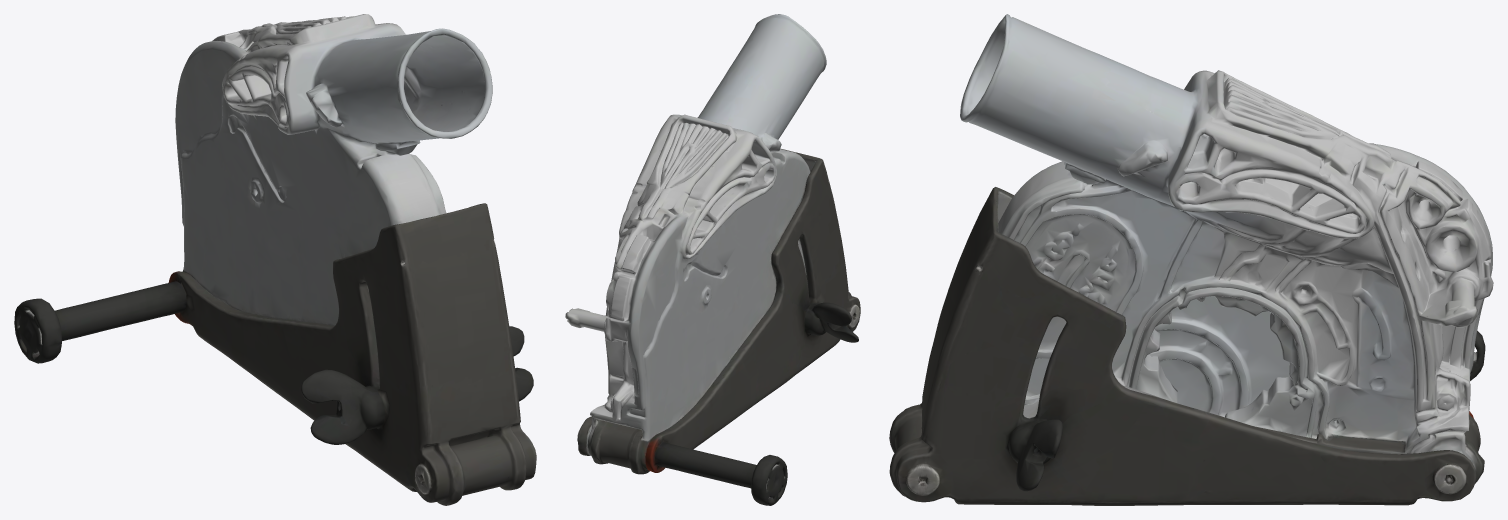
The model's file is cutting-dust-extractor.glb.
3 renders of one model, left to right at view 1: azimuth 30°, elevation 25°; view 2: azimuth 150°, elevation 25°; view 3: azimuth 270°, elevation 25°, orthographic. The views are drawn at different scales.
Visible parts, largest first — view 1: tripo_node_9b2046a3-c3b5-4821-94d4-971178a5b547; view 2: tripo_node_9b2046a3-c3b5-4821-94d4-971178a5b547; view 3: tripo_node_9b2046a3-c3b5-4821-94d4-971178a5b547.
Part boxes in pixels (<box>): tripo_node_9b2046a3-c3b5-4821-94d4-971178a5b547: <box>14,14,536,505</box>; tripo_node_9b2046a3-c3b5-4821-94d4-971178a5b547: <box>565,14,860,505</box>; tripo_node_9b2046a3-c3b5-4821-94d4-971178a5b547: <box>889,14,1493,505</box>.
Bounding box in the file's own units: 0.6334 × 0.8528 × 1.
Materials: 1 (1 with a texture image).
